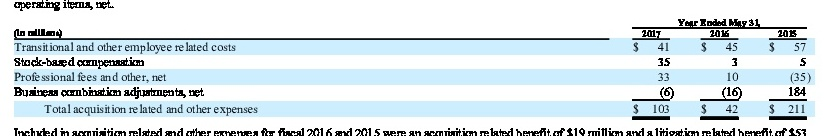table: (0, 0, 826, 136)
